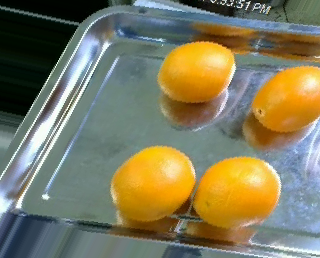Orange: (110, 144, 196, 221), (194, 156, 282, 228), (156, 41, 235, 103), (252, 65, 320, 134)
